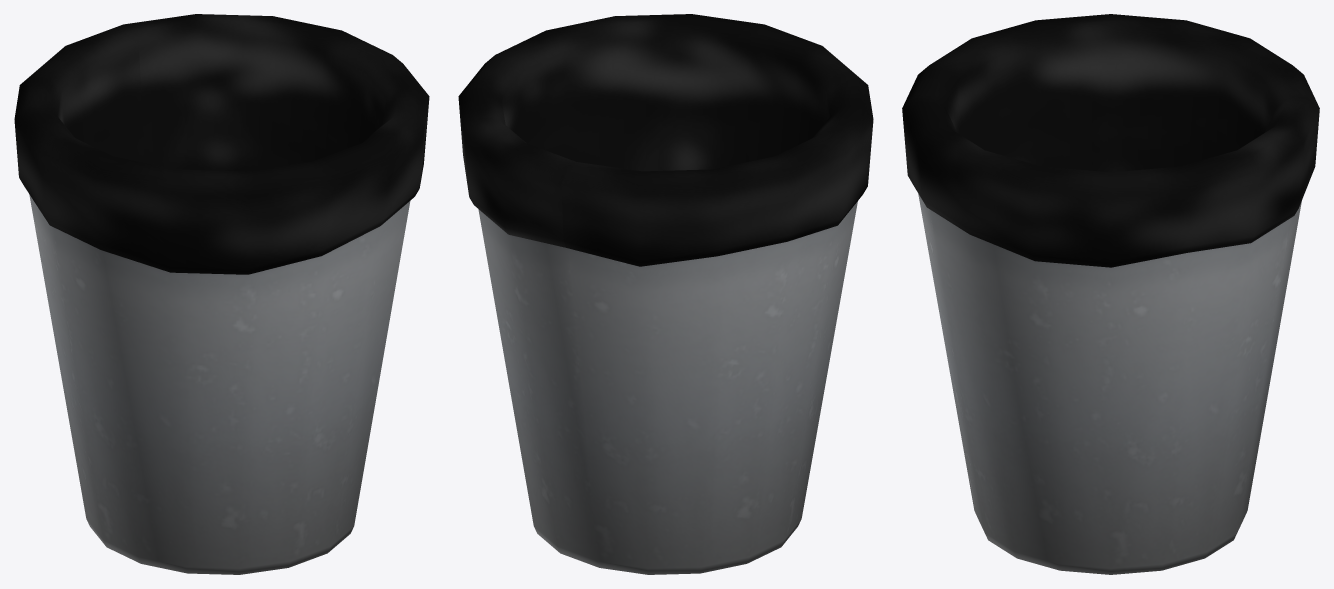
Rendered from OfficeTrashCan02.FBX.
3 views of the same model, side by side, from view 1: azimuth 30°, elevation 25°; view 2: azimuth 150°, elevation 25°; view 3: azimuth 270°, elevation 25° (orthographic).
Visible parts, largest first — view 1: OfficeTrashCan02; view 2: OfficeTrashCan02; view 3: OfficeTrashCan02.
Boxes of the visible parts, x1,y1,x2,y2 form: OfficeTrashCan02: [14, 14, 429, 574]; OfficeTrashCan02: [458, 14, 873, 574]; OfficeTrashCan02: [902, 14, 1319, 574].
Size of what is drawn, in the model's own units: 0.527 by 0.591 by 0.527.
